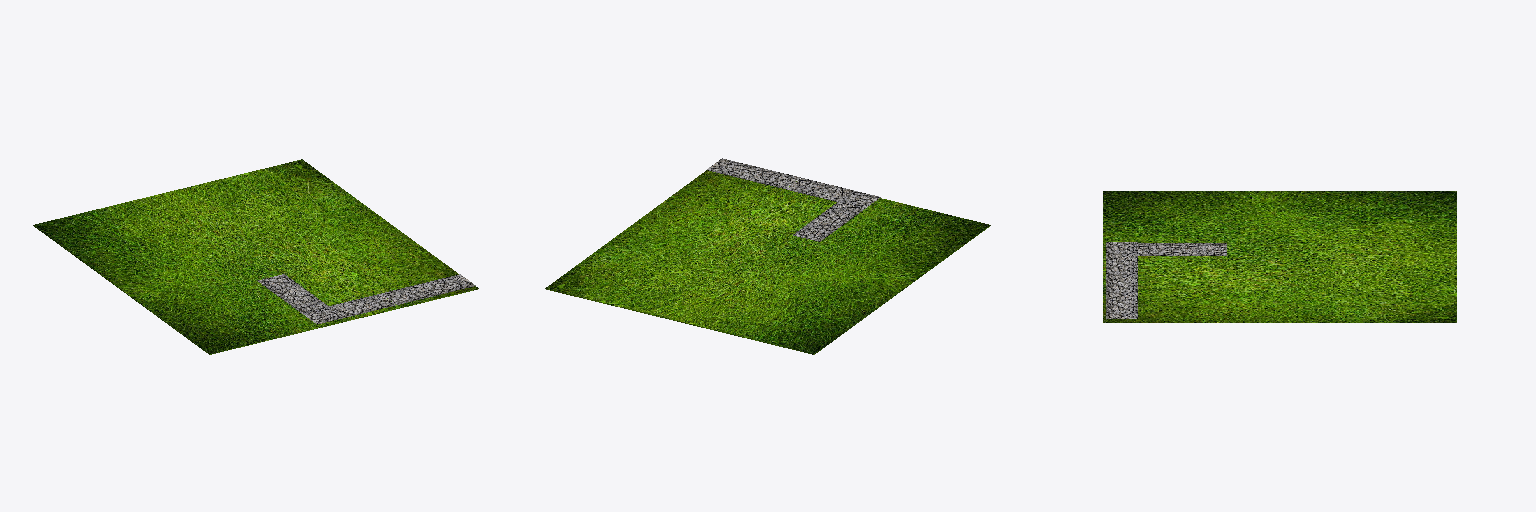
3 renders of one model, left to right at view 1: azimuth 30°, elevation 25°; view 2: azimuth 150°, elevation 25°; view 3: azimuth 270°, elevation 25°, orthographic.
Visible parts, largest first — view 1: pCube5; view 2: pCube5; view 3: pCube5.
Boxes of the visible parts, box(x1,y1,x2,y2) form: pCube5: box(33, 159, 478, 354); pCube5: box(545, 158, 990, 354); pCube5: box(1103, 191, 1456, 322).
Bounding box in the file's own units: 17.92 × 0.1856 × 20.36.
Materials: 2 (2 with a texture image).